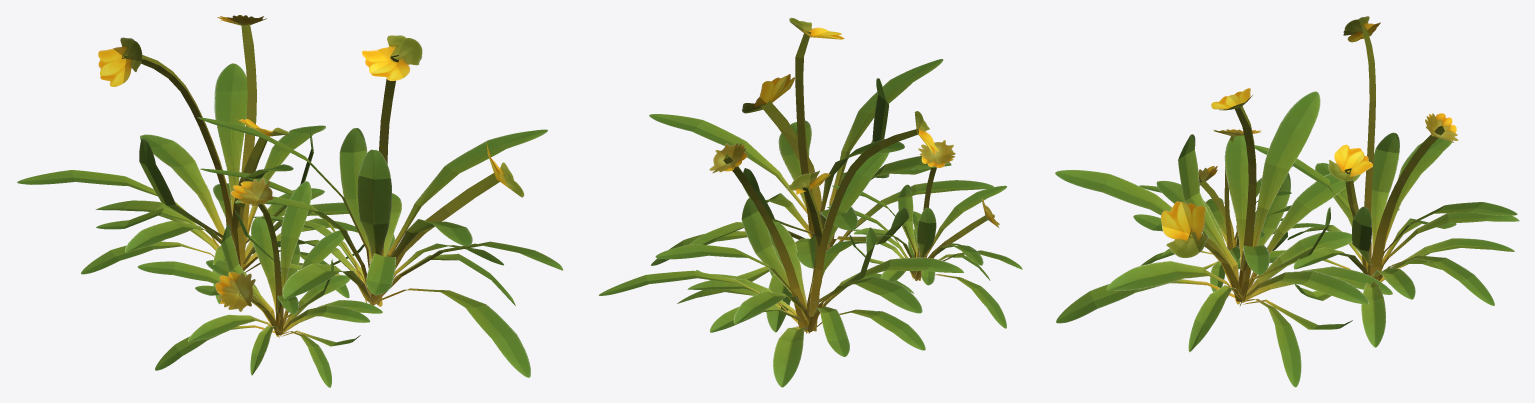
The model's file is P_Flowerjinzhanju_02.obj.
3 renders of one model, left to right at view 1: azimuth 30°, elevation 25°; view 2: azimuth 150°, elevation 25°; view 3: azimuth 270°, elevation 25°, orthographic. The views are drawn at different scales.
Size of the model in its own units: 0.7683 by 0.4995 by 0.8816.
1 material, 1 textured.
